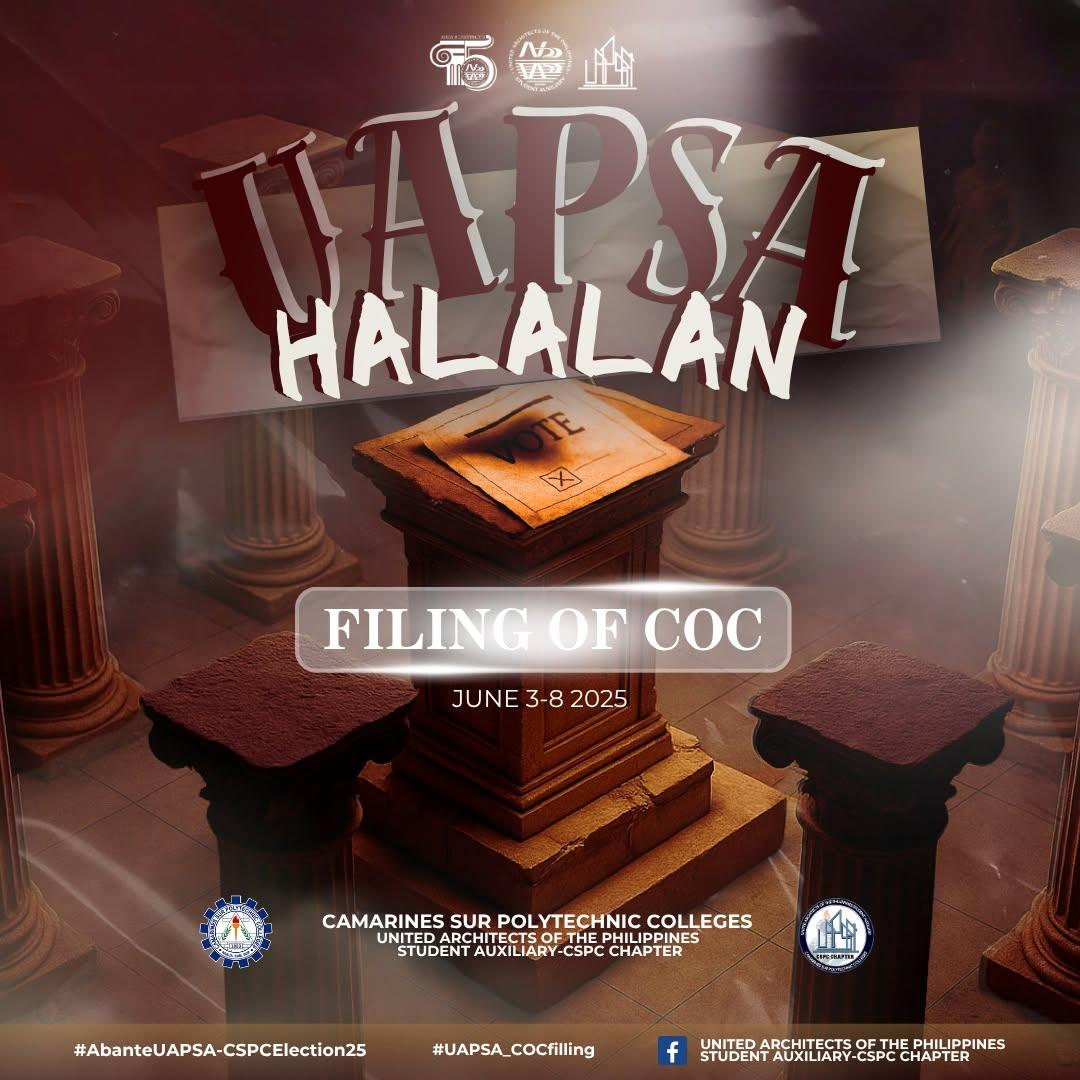embellishment: (0, 233, 786, 1079), (748, 221, 1079, 1079)
logo: (793, 892, 880, 980), (195, 889, 280, 970), (502, 27, 575, 95), (424, 29, 501, 93), (577, 28, 643, 94), (655, 1032, 693, 1069)
text: (181, 90, 904, 431), (320, 599, 771, 659), (316, 907, 758, 963), (697, 1035, 1010, 1065), (74, 1038, 371, 1060), (447, 683, 633, 714), (429, 1040, 599, 1061)
underlay: (0, 0, 1079, 685), (367, 671, 801, 1079), (0, 737, 230, 1079), (925, 728, 1079, 1079), (300, 588, 794, 672)
